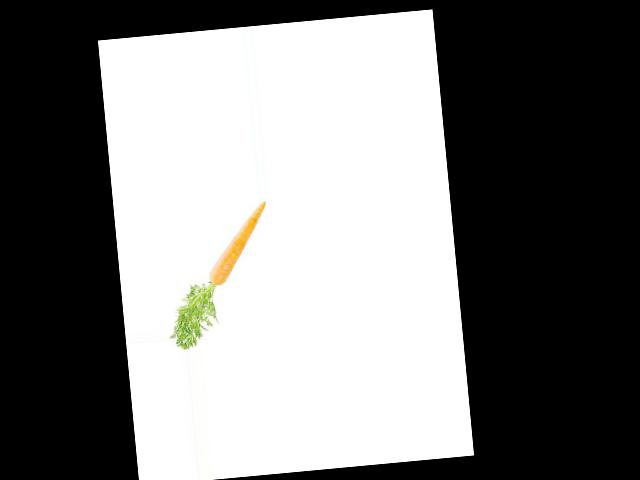carrot: (201, 198, 275, 289)
